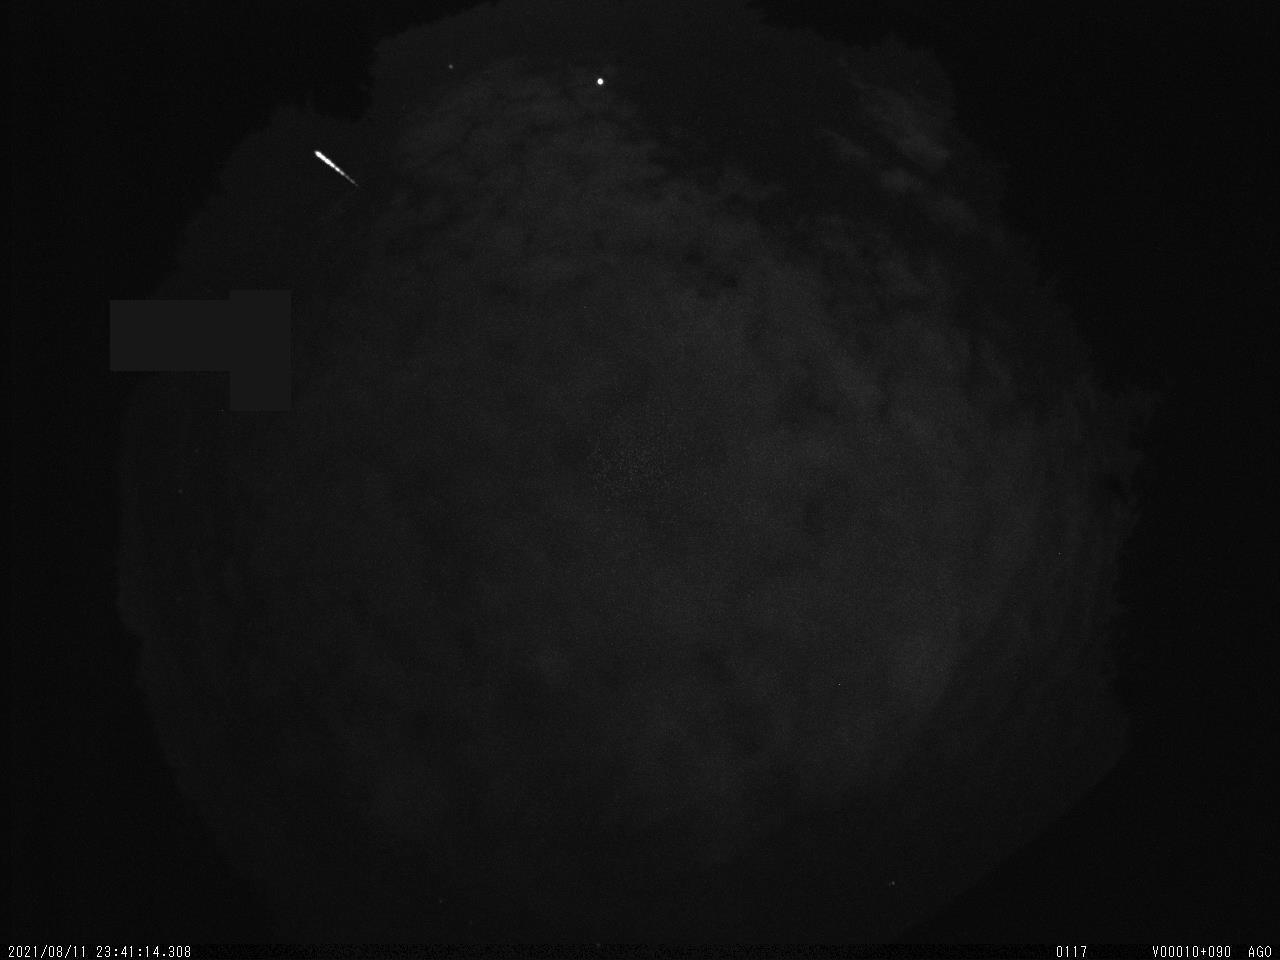meteor: (303, 134, 374, 202)
